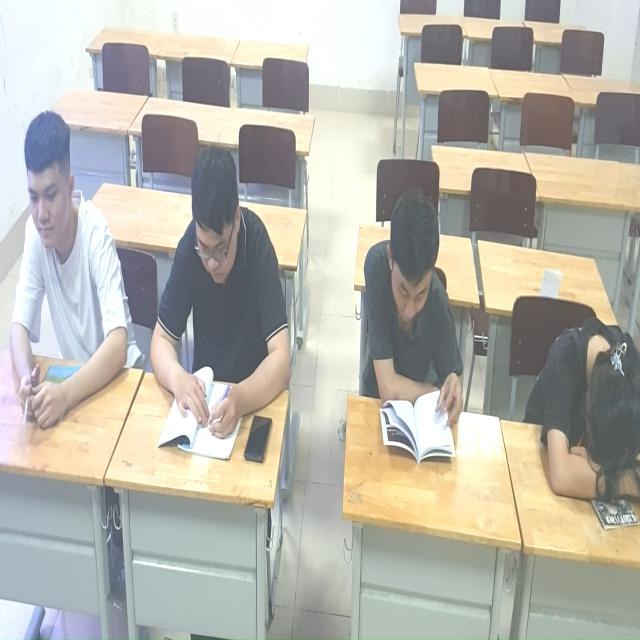read: (142, 141, 297, 475), (7, 110, 131, 437), (359, 182, 472, 470)
sleep: (527, 314, 640, 513)
